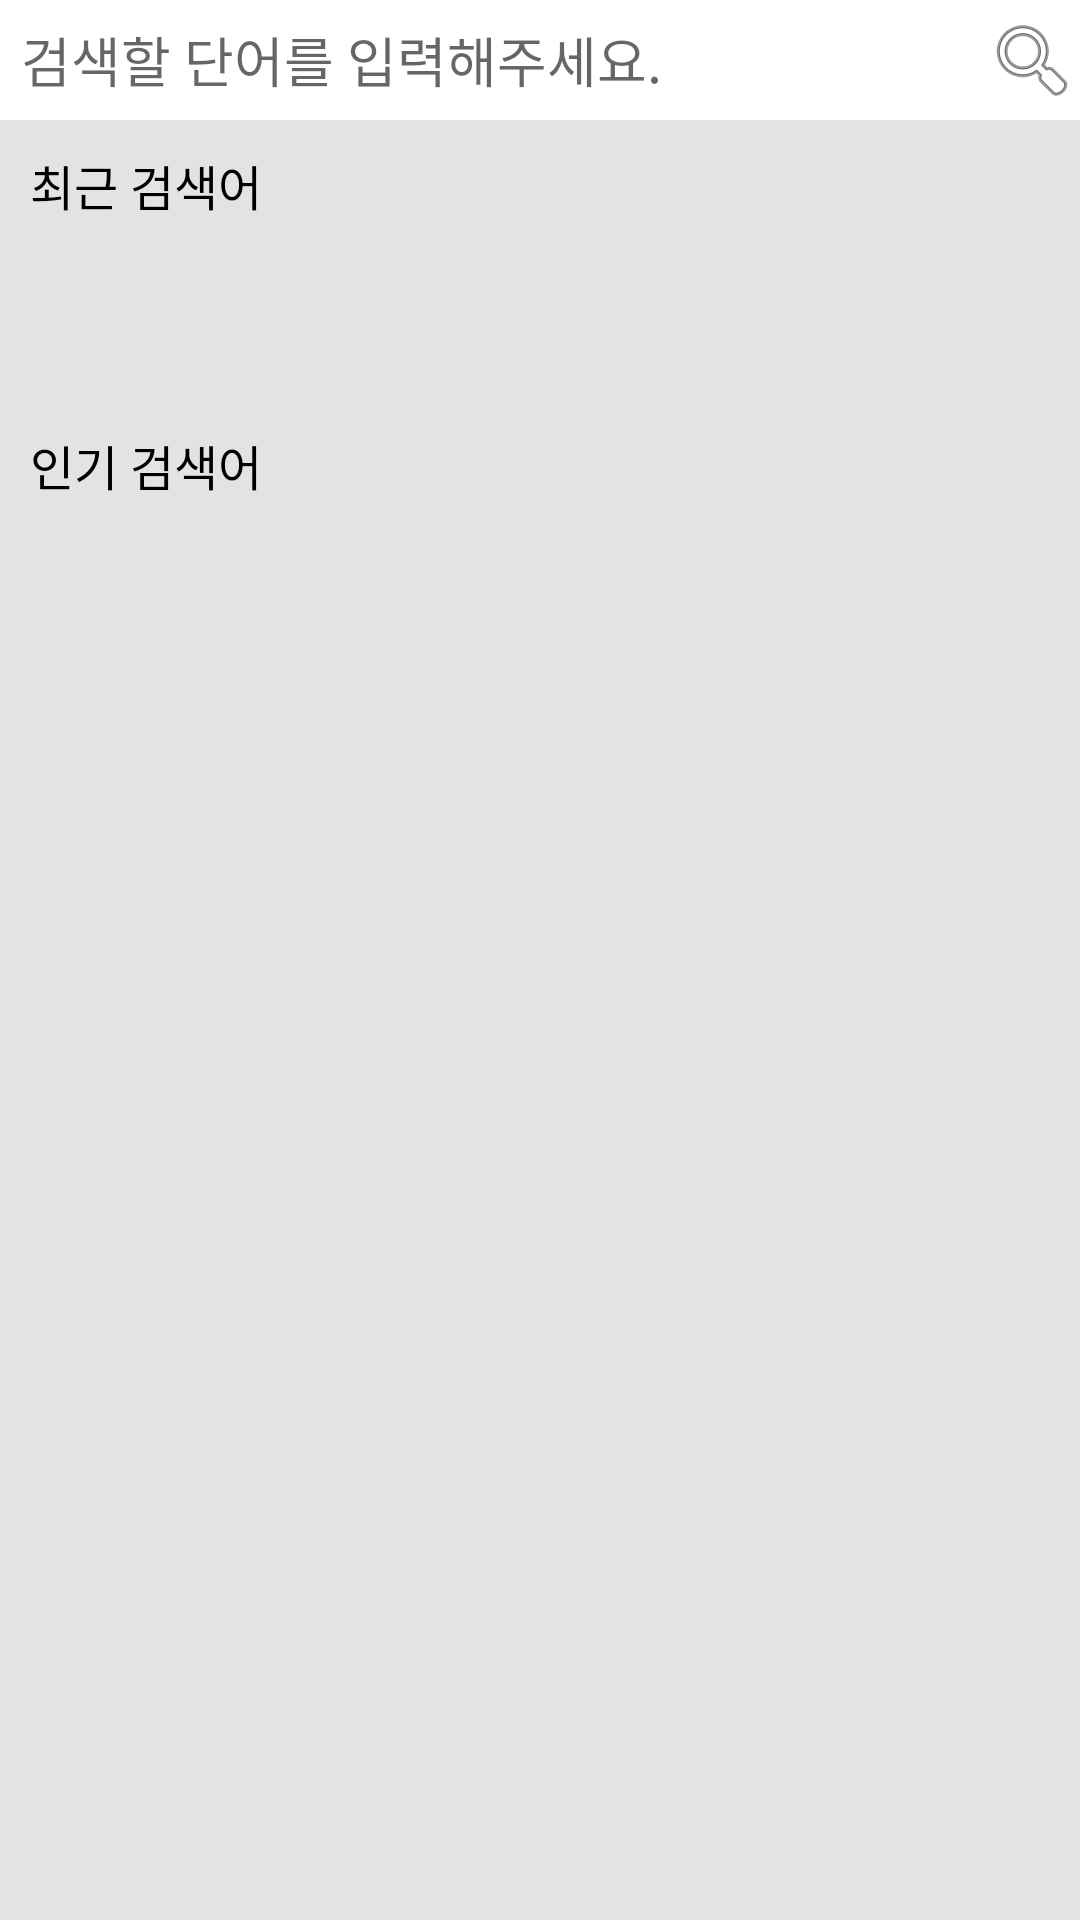

Where to tap for icons on this 1080px×1920px app screen, as point (x, y):
search: point (1032, 60)
